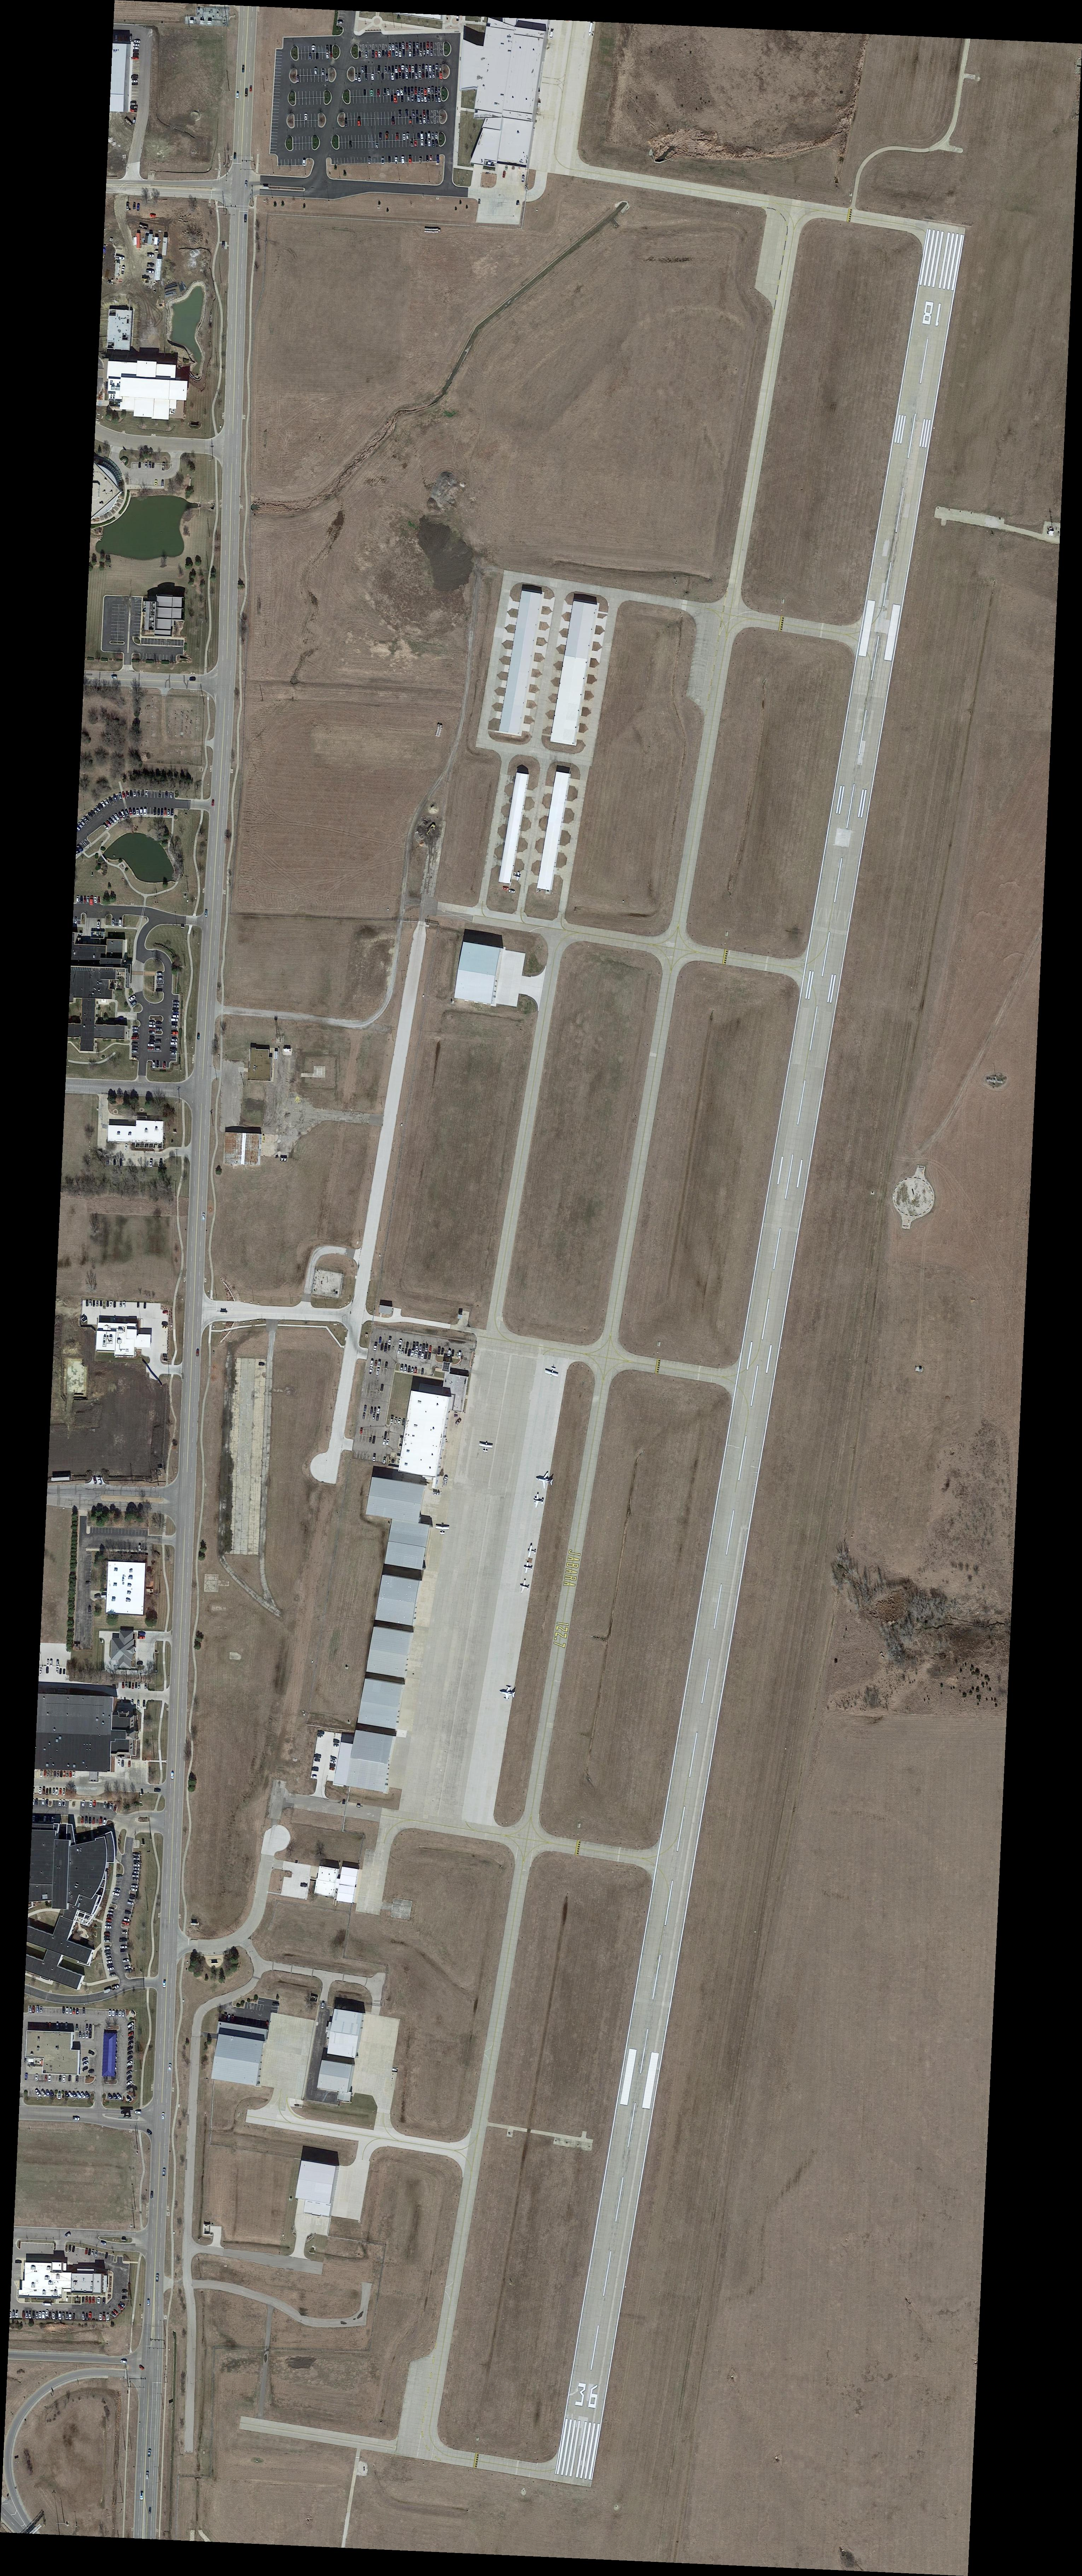plane: (534, 1469, 555, 1491), (498, 1684, 518, 1702), (543, 1364, 561, 1379), (517, 1578, 532, 1595), (434, 1521, 451, 1535), (531, 1491, 546, 1508), (525, 1542, 539, 1558), (478, 1440, 494, 1453), (522, 1560, 534, 1574), (511, 870, 522, 882)
